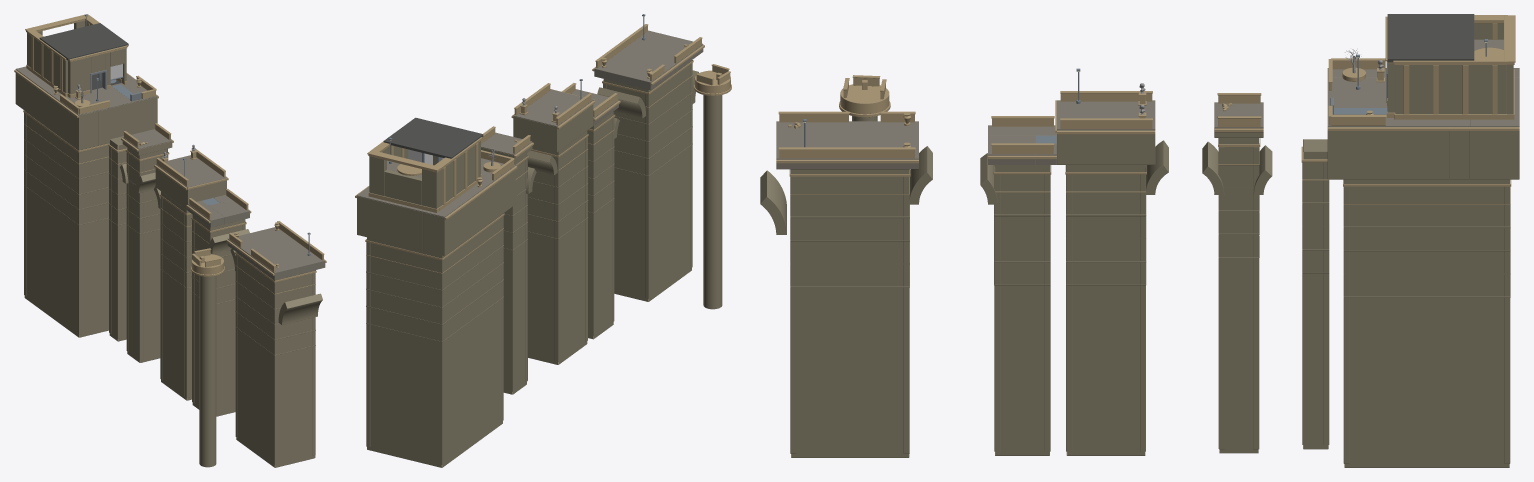
File: c_viaduct.glb
3 renders of one model, left to right at view 1: azimuth 30°, elevation 25°; view 2: azimuth 150°, elevation 25°; view 3: azimuth 270°, elevation 25°, orthographic. The views are drawn at different scales.
Parts seen in each view (by area): view 1: island_c_viaduct, chunk_abutment; view 2: island_c_viaduct, chunk_abutment; view 3: island_c_viaduct, chunk_abutment.
Part boxes in pixels (x1,y1,x2,y2): island_c_viaduct: (14, 14, 251, 416); chunk_abutment: (191, 221, 326, 467); island_c_viaduct: (355, 79, 620, 467); chunk_abutment: (592, 14, 731, 309); island_c_viaduct: (980, 14, 1519, 467); chunk_abutment: (760, 75, 932, 457).
Size of the model in its own units: 21.1 by 47.4 by 77.12.
